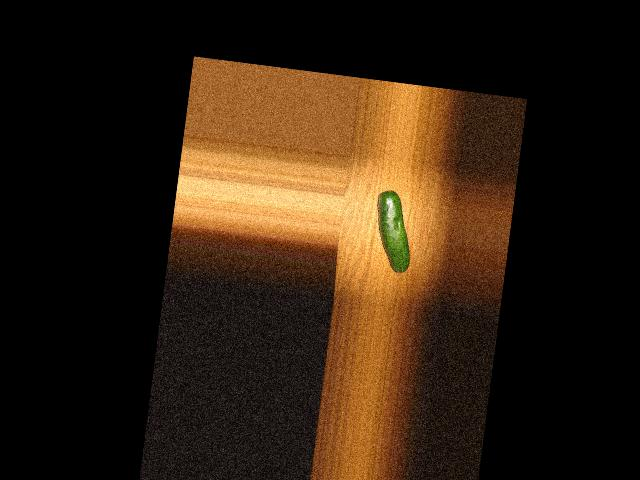cucumber: (368, 190, 417, 274)
